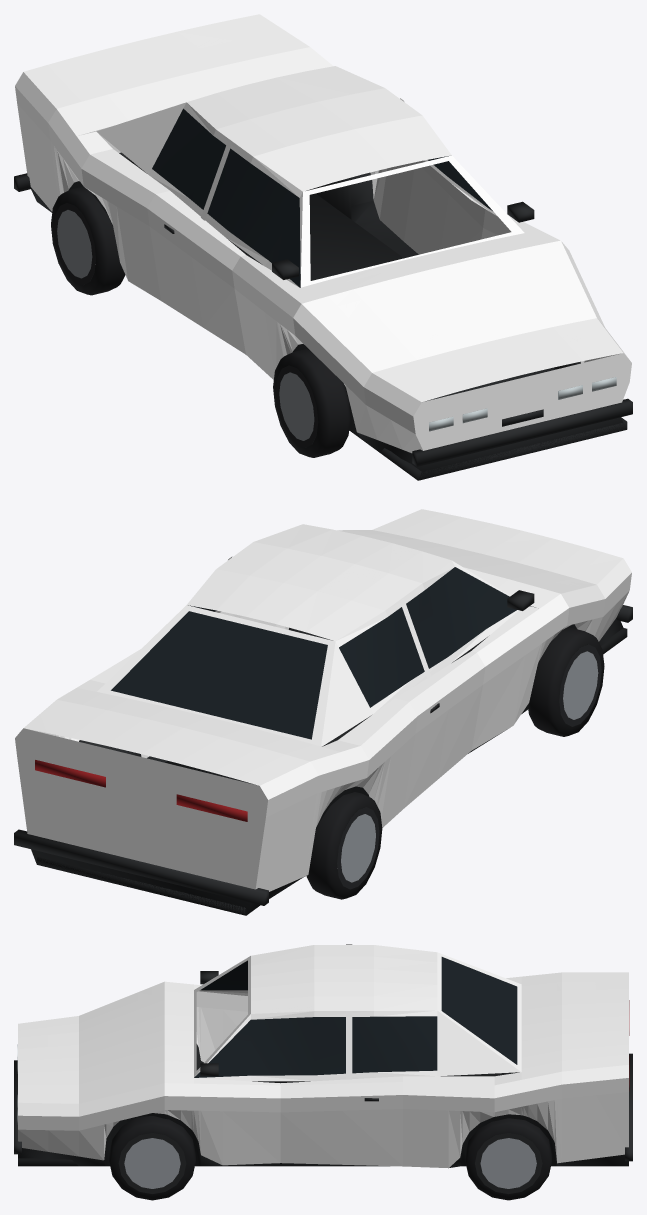
File: hozuki_atrito.glb
3 views of the same model, one above another, from view 1: azimuth 30°, elevation 25°; view 2: azimuth 150°, elevation 25°; view 3: azimuth 270°, elevation 25° (orthographic). The views are drawn at different scales.
Visible parts, largest first — view 1: Body_Paint, Body_Details, Mount_FrontLeft_Wheel_Details, Mount_RearLeft_Wheel_Details; view 2: Body_Paint, Body_Details, Mount_FrontLeft_Wheel_Details, Mount_RearLeft_Wheel_Details; view 3: Body_Paint, Body_Details, Mount_FrontRight_Wheel_Details, Mount_RearRight_Wheel_Details.
Boxes of the visible parts, x1=… form: Body_Paint: x1=15, y1=14, x2=631, y2=453; Body_Details: x1=14, y1=108, x2=632, y2=480; Mount_FrontLeft_Wheel_Details: x1=273, y1=349, x2=350, y2=457; Mount_RearLeft_Wheel_Details: x1=51, y1=187, x2=125, y2=295; Body_Paint: x1=15, y1=509, x2=631, y2=891; Body_Details: x1=14, y1=567, x2=632, y2=915; Mount_FrontLeft_Wheel_Details: x1=528, y1=627, x2=604, y2=736; Mount_RearLeft_Wheel_Details: x1=306, y1=792, x2=382, y2=899; Body_Paint: x1=18, y1=944, x2=628, y2=1168; Body_Details: x1=14, y1=957, x2=632, y2=1167; Mount_FrontRight_Wheel_Details: x1=109, y1=1116, x2=195, y2=1200; Mount_RearRight_Wheel_Details: x1=465, y1=1118, x2=551, y2=1200.
Size of the model in its own units: 1.87 by 1.33 by 4.34.
2 materials, 1 textured.
